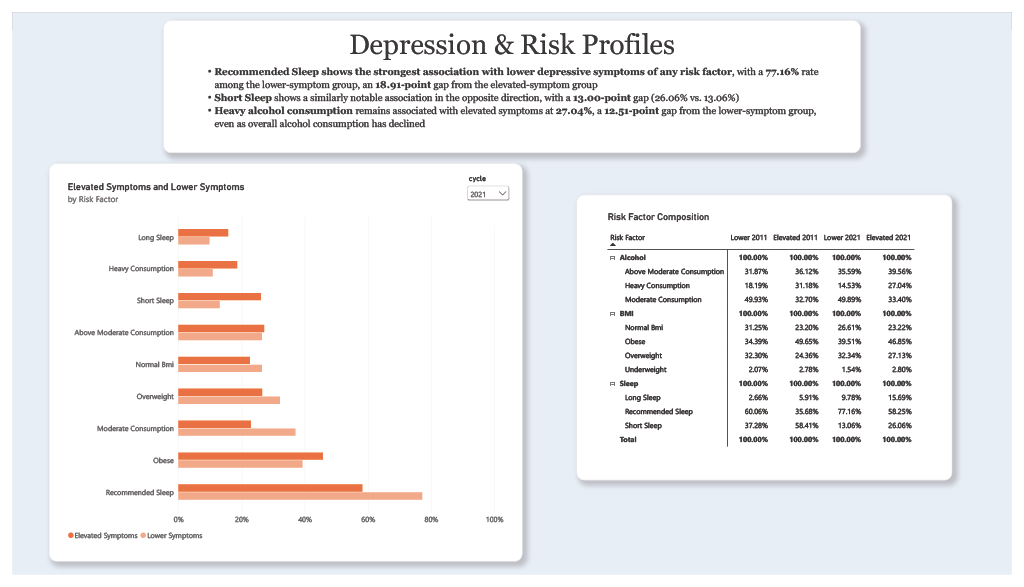

The dashboard page shown, as its layout file describes it:
{"tool":"powerbi","page":{"name":"Depression & Risk Profiles","canvas":[1920,1080],"ordinal":3},"visuals":[{"type":"textbox","box":[290,15,1340,255],"z":0},{"type":"textbox","box":[1084,349.8,722.2,549.3],"z":1000},{"type":"textbox","box":[70,290,910,765],"z":2000},{"type":"clusteredBarChart","title":"Elevated Symptoms and Lower Symptoms","fields":{"Y":["risk_factors_m.Depressed %","risk_factors_m.Non Depressed %"],"Category":["risk_factors_m.risk_factor_value"]},"box":[90,310,870,725],"z":3000},{"type":"pivotTable","title":"Risk Factor Composition","fields":{"Values":["risk_factors_m.Non Depressed 2011","risk_factors_m.Depressed 2011","risk_factors_m.Non Depressed 2021","risk_factors_m.Depressed 2021"],"Rows":["risk_factors_m.risk_factor_type","risk_factors_m.risk_factor_value"]},"box":[1127.9,368.4,635.8,512.1],"z":4000},{"type":"slicer","fields":{"Values":["risk_factors_m.cycle"]},"box":[868.5,309.9,91.9,99.2],"z":5000},{"type":"textbox","box":[310,30.6,1300,70],"z":6000},{"type":"textbox","box":[360.4,101.1,1200,145],"z":7000}]}

Visuals, with their boxes in screenshot pixels (x1, y1, x2, y2), scaled from the page's 1920x1080 canvas onto the 1024x587 screenshot:
textbox: bbox=(155, 8, 869, 147)
textbox: bbox=(578, 190, 963, 489)
textbox: bbox=(37, 158, 523, 573)
"Elevated Symptoms and Lower Symptoms" clusteredBarChart: bbox=(48, 168, 512, 563)
"Risk Factor Composition" pivotTable: bbox=(602, 200, 941, 479)
slicer - risk_factors_m.cycle: bbox=(463, 168, 512, 222)
textbox: bbox=(165, 17, 859, 55)
textbox: bbox=(192, 55, 832, 134)
